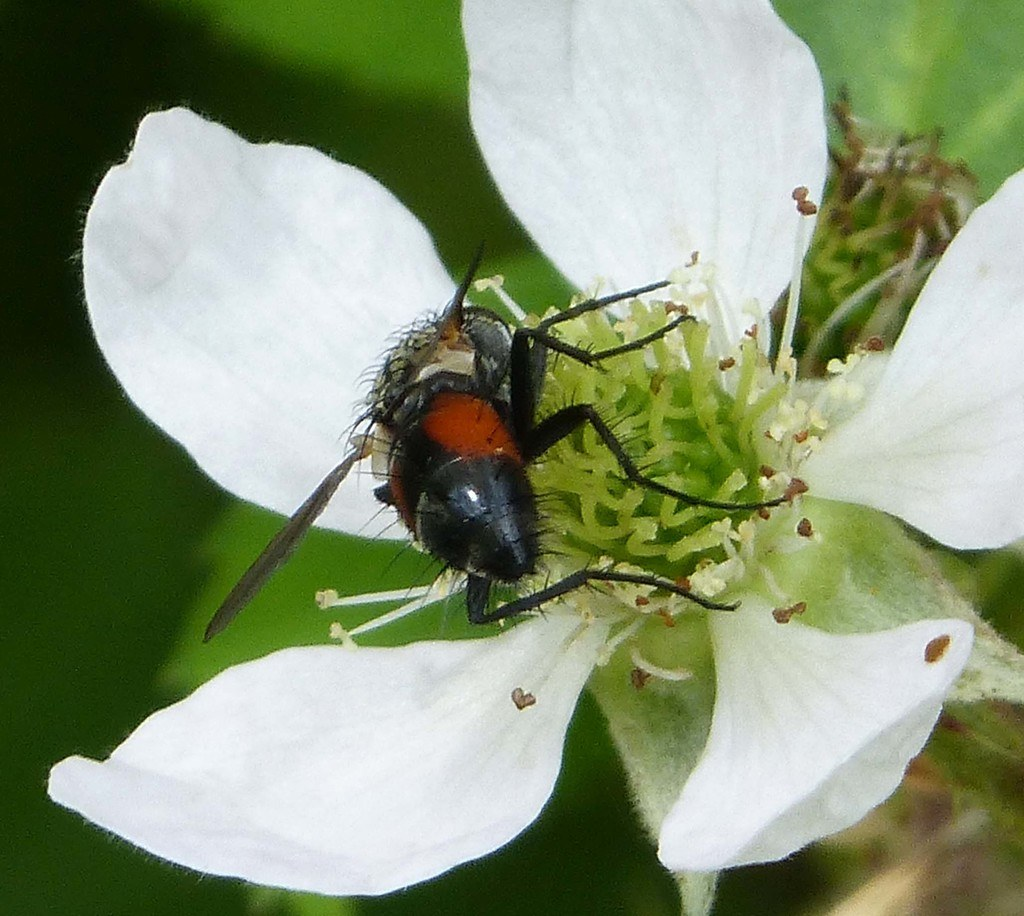bee: (180, 226, 792, 719)
insect: (48, 0, 1023, 896)
